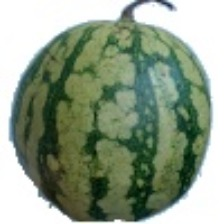watermelon: (39, 66, 218, 200)
